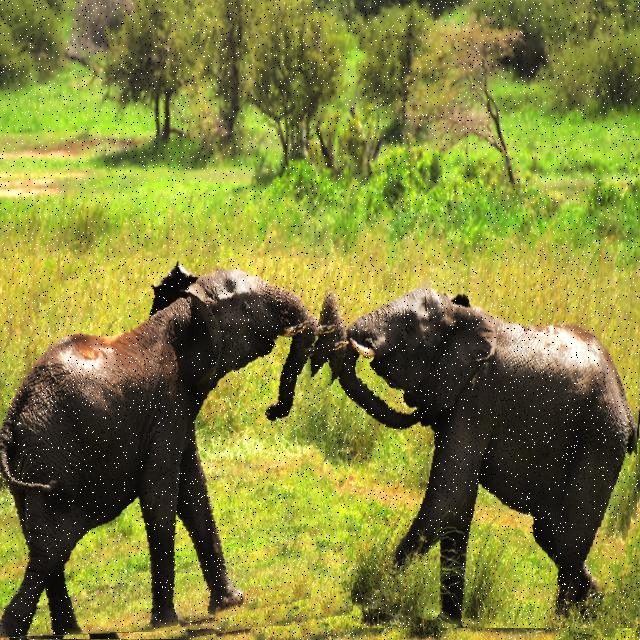elephant: (0, 258, 345, 640), (301, 275, 640, 628)
